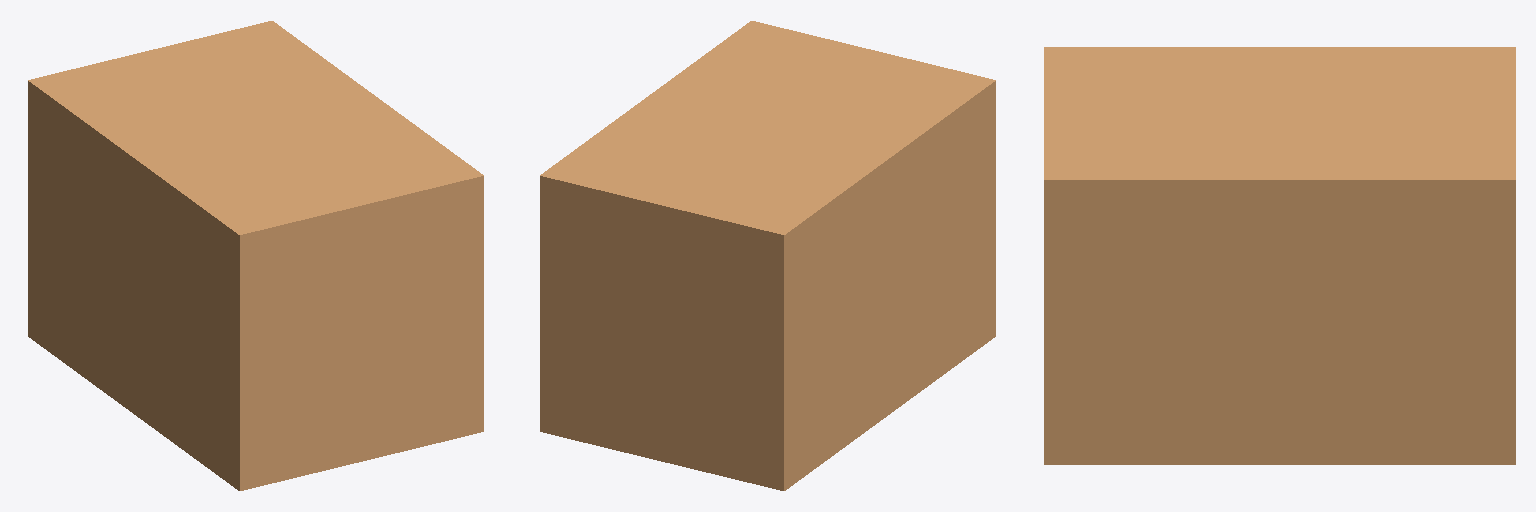
robot.urdf — arm_basis:
<?xml version="1.0"?>
<robot name="arm_basis">
  <link name="arm_basis">
    <visual>
      	<geometry>
          	<mesh filename="package://process_visualizer/resources/arm_basis.STL"/>
      	</geometry>
	  	<material name="ABS" >
          	<color rgba="0.9 0.7 0.5 1.0" />
         </material> 	
    </visual>
    <inertial>
      <origin xyz="0 0 0" rpy="0 0 0"/>
       <mass value="1"/>
      <inertia
        ixx="1.0" ixy="0.0" ixz="0.0"
        iyy="1.0" iyz="0.0"
        izz="1.0"/>
    </inertial>
  </link>

  <link name="world"/>

  <joint name="fixed" type="fixed">
    <parent link="world"/>
    <child link="arm_basis"/>
  </joint>

</robot>

--- What the picture shows (computed from the rendered views, not written in the file) ---
The picture shows the robot from 3 angles, left to right: view 1: azimuth 30°, elevation 25°; view 2: azimuth 150°, elevation 25°; view 3: azimuth 270°, elevation 25°; orthographic projection.
Model arm_basis with 2 links and 1 joints (1 fixed), rooted at world, posed all joints at 0.
Links seen in each view (by area): view 1: arm_basis; view 2: arm_basis; view 3: arm_basis.
Boxes of the visible links, x1,y1,x2,y2 form: arm_basis: (28,21,483,490); arm_basis: (540,21,995,490); arm_basis: (1044,47,1515,464).
Bounding box of the posed robot: 0.2 × 0.3 × 0.2 m (x, y, z).
1 mesh visuals loaded from 1 distinct referenced files (1 binary STL).